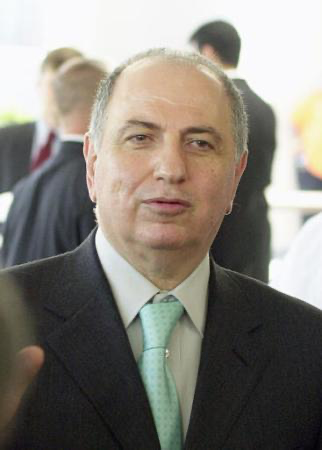Face: (94, 73, 251, 253)
